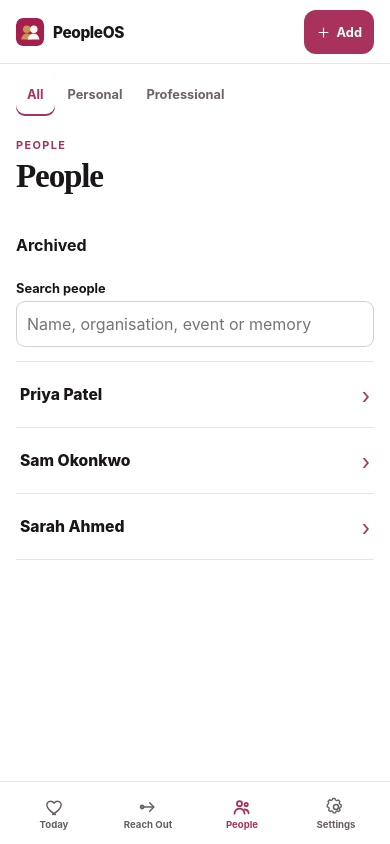
Test: V1-R3 search debounce › still shows results for the settled query
Step 1. Type "priya" into the search field labelled "Search people" → (195, 324), box [16,302,374,348]
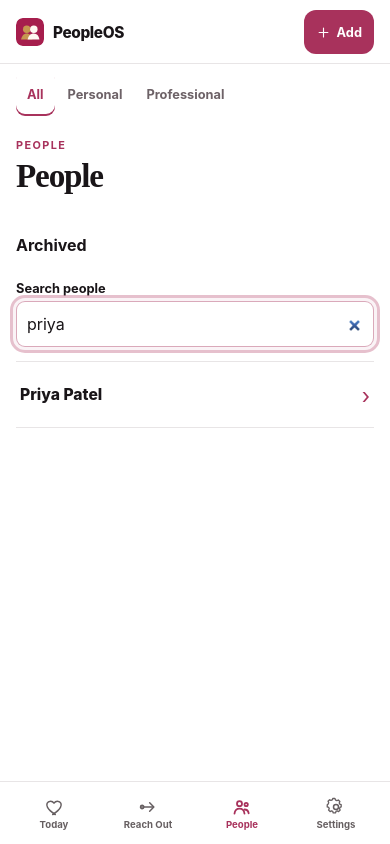
Expected: the text "Priya Patel" is shown, [20,386,102,404]
Expected: the link "Sarah Ahmed" is gone
Step 2. Clear the search field labelled "Search people" → (195, 324), box [16,302,374,348]
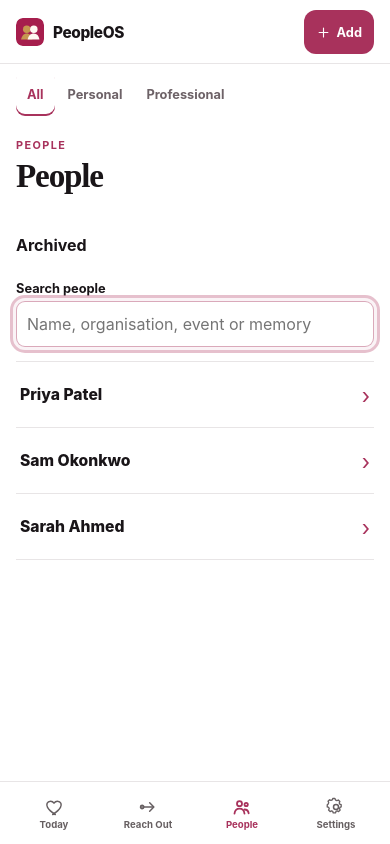
Expected: the text "Sarah Ahmed" is shown, [20,518,124,536]
